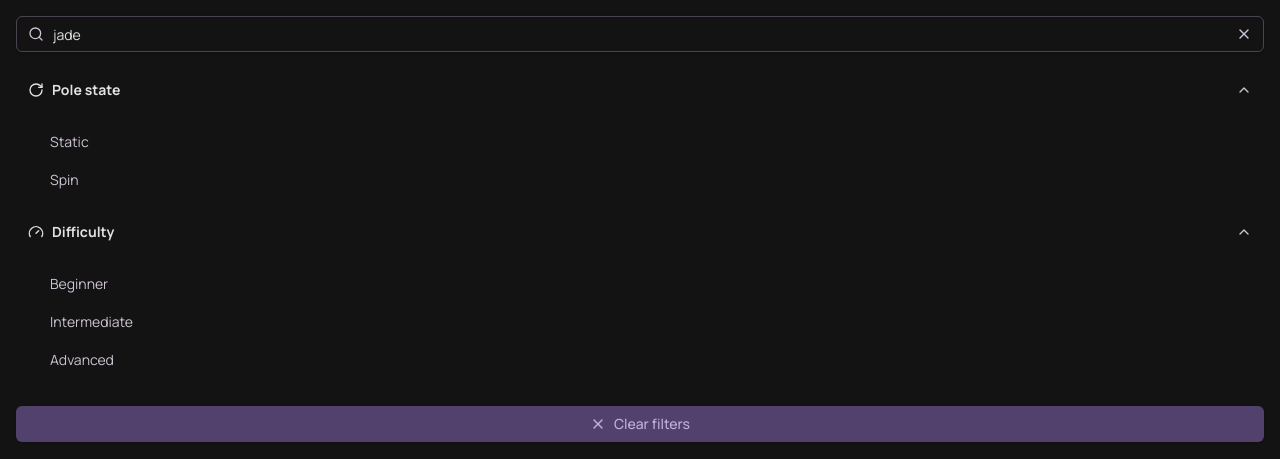
Scenario: CatalogFilters › Clear filters resets search input value
Expected: the field named "Search" holds "jade", [16, 16, 1264, 52]
Step 1. Click the button "Clear filters" → (640, 424), box [16, 406, 1264, 442]
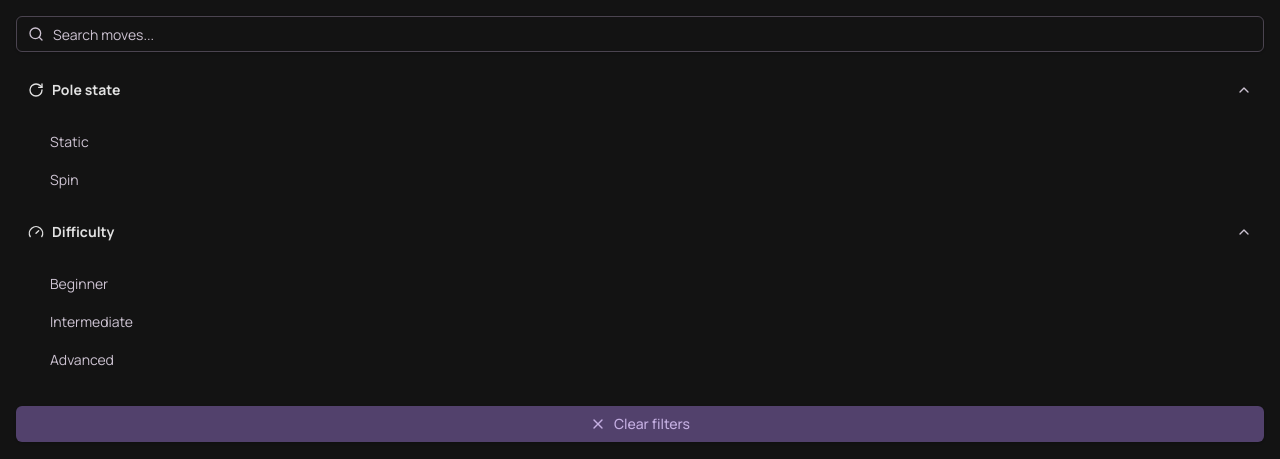
Result: the field labelled "Search moves..." is empty at [16, 16, 1264, 52]
